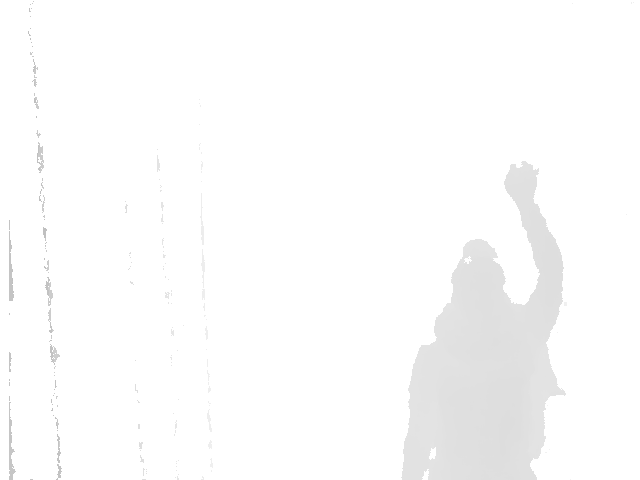hand: (503, 159, 544, 205)
head: (446, 238, 513, 329)
person: (403, 159, 567, 480)
